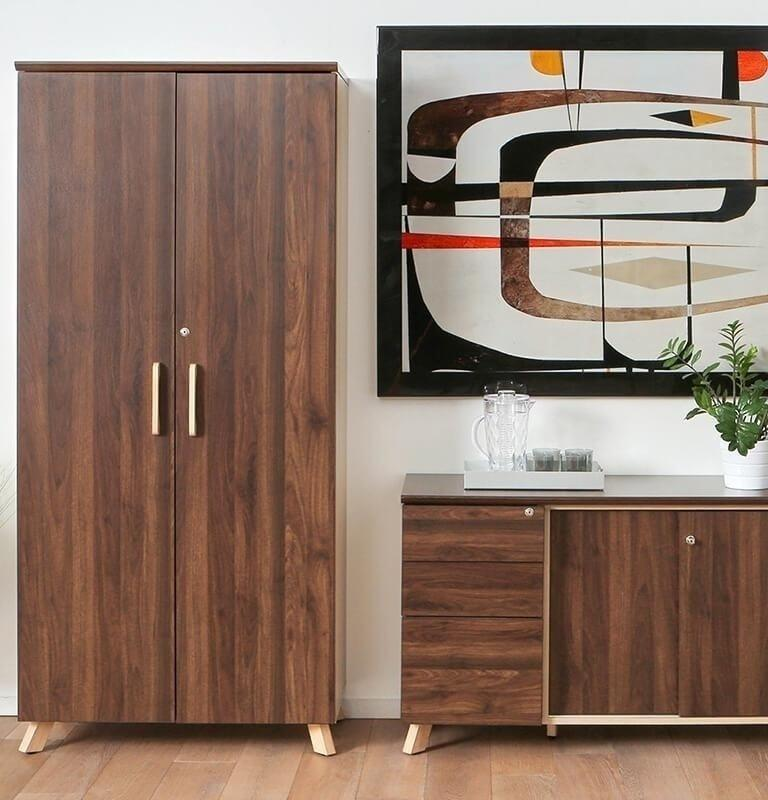cabinet_door: (173, 74, 335, 718), (17, 74, 174, 722), (553, 511, 768, 716), (400, 499, 547, 726)
handle: (186, 357, 204, 443), (150, 356, 167, 443), (680, 531, 701, 551), (520, 503, 537, 525)
